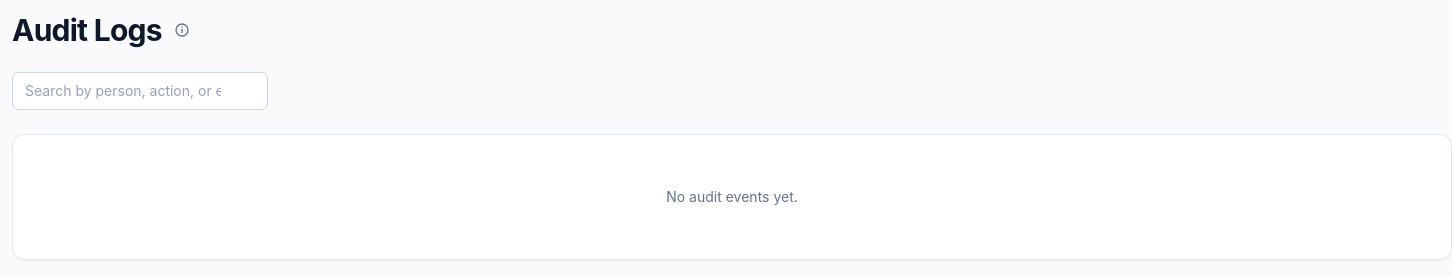
AuditLogsPage — search › distinguishes "no events yet" from "nothing matched the search"
Expected: the text "No audit events yet." is shown, top-left (666, 188), bottom-right (798, 205)
In the search field named "Search audit logs": [140, 91] box top-left (12, 72), bottom-right (268, 110), type "nobody"
Wait 300 ms
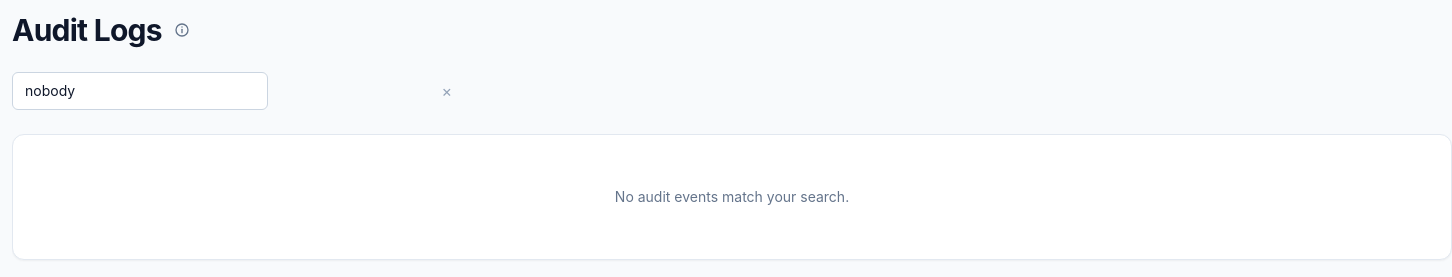
Now the text "No audit events match your search." is shown, box top-left (615, 188), bottom-right (849, 205)
